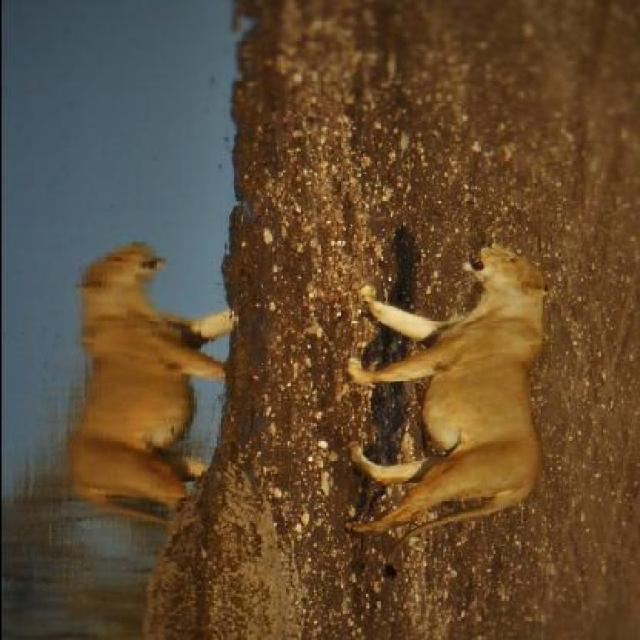Lion: (329, 237, 563, 588)
